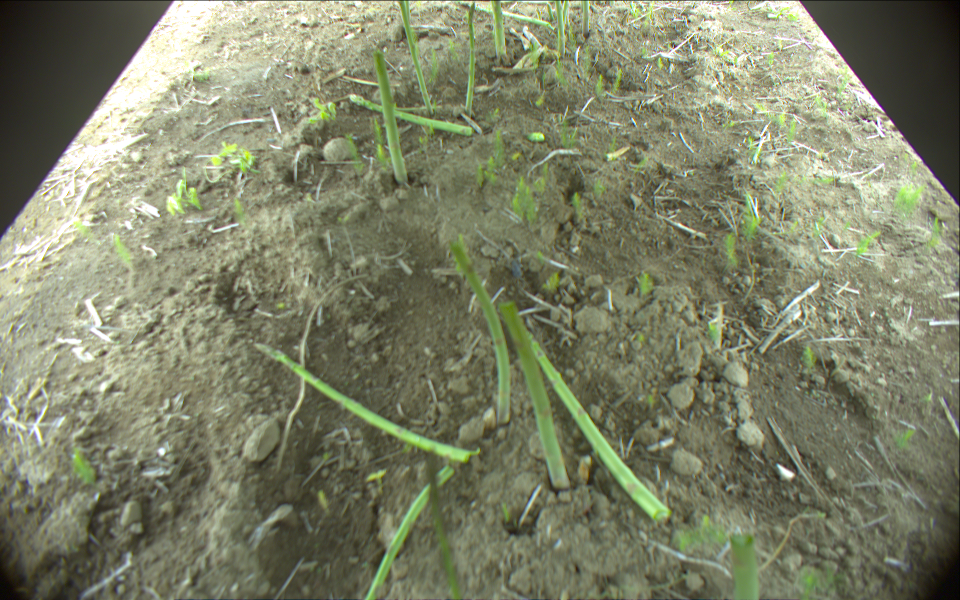aspa: (525, 330, 671, 522), (252, 342, 477, 465), (499, 300, 570, 490), (364, 464, 455, 600), (450, 235, 512, 424), (426, 447, 463, 600), (350, 92, 473, 136), (375, 51, 408, 181), (398, 1, 434, 114), (461, 1, 554, 30), (730, 532, 761, 600), (464, 1, 476, 116), (489, 1, 508, 58), (556, 1, 567, 57), (581, 1, 589, 37), (560, 1, 571, 25), (547, 3, 555, 21)
